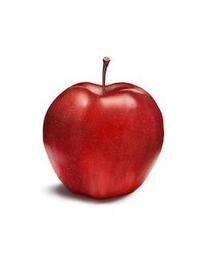apple: (41, 56, 163, 198)
